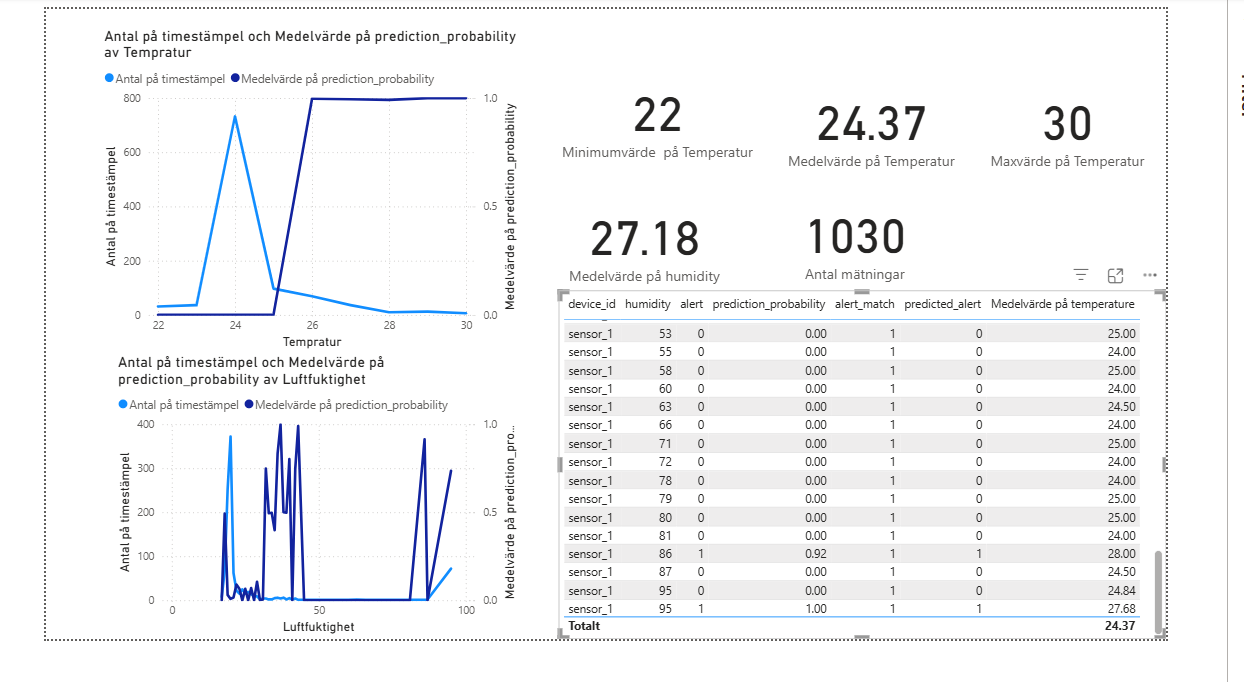

Layout of this report page (visuals, bound fields, positions):
{"tool":"powerbi","page":{"name":"Sida 1","canvas":[1280,720],"ordinal":0},"visuals":[{"type":"card","fields":{"Values":["Min(iot_data_powerbi_final.temperature)"]},"box":[584.6,52.1,229.2,144.1],"z":1},{"type":"card","fields":{"Values":["Max(iot_data_powerbi_final.temperature)"]},"box":[1053.9,52.1,226.4,164.7],"z":2},{"type":"card","fields":{"Values":["Avg(iot_data_powerbi_final.temperature)"]},"box":[832.9,52.1,220.9,164.7],"z":3},{"type":"card","fields":{"Values":["CountNonNull(iot_data_powerbi_final.device_id)"]},"box":[833.3,205,183.3,116.7],"z":4},{"type":"card","fields":{"Values":["Avg(iot_data_powerbi_final.humidity)"]},"box":[585,190,196.7,153.3],"z":5},{"type":"lineChart","fields":{"Y":["CountNonNull(iot_data_powerbi_final.timestamp)"],"Category":["iot_data_powerbi_final.temperature"],"Y2":["Avg(iot_data_powerbi_final.prediction_probability)"]},"box":[61.7,20,481.7,373.3],"z":6},{"type":"lineChart","fields":{"Y":["CountNonNull(iot_data_powerbi_final.timestamp)"],"Category":["iot_data_powerbi_final.humidity"],"Y2":["Avg(iot_data_powerbi_final.prediction_probability)"]},"box":[77.8,393.3,465.6,326.7],"z":7},{"type":"tableEx","fields":{"Values":["iot_data_powerbi_final.device_id","iot_data_powerbi_final.humidity","iot_data_powerbi_final.alert","iot_data_powerbi_final.prediction_probability","iot_data_powerbi_final.alert_match","iot_data_powerbi_final.predicted_alert","Avg(iot_data_powerbi_final.temperature)"]},"box":[585,321.2,695,398.8],"z":8}]}

Visuals, with their boxes in screenshot pixels (x1, y1, x2, y2), scaled from the page's 1280x720 canvas onto the 1244x682 screenshot:
card - Min(iot_data_powerbi_final.temperature): crop(568, 49, 791, 186)
card - Max(iot_data_powerbi_final.temperature): crop(1024, 49, 1243, 205)
card - Avg(iot_data_powerbi_final.temperature): crop(809, 49, 1024, 205)
card - CountNonNull(iot_data_powerbi_final.device_id): crop(810, 194, 988, 305)
card - Avg(iot_data_powerbi_final.humidity): crop(569, 180, 760, 325)
lineChart - CountNonNull(iot_data_powerbi_final.timestamp) x iot_data_powerbi_final.temperature: crop(60, 19, 528, 373)
lineChart - CountNonNull(iot_data_powerbi_final.timestamp) x iot_data_powerbi_final.humidity: crop(76, 373, 528, 681)
tableEx - iot_data_powerbi_final.device_id x iot_data_powerbi_final.humidity: crop(569, 304, 1243, 681)
